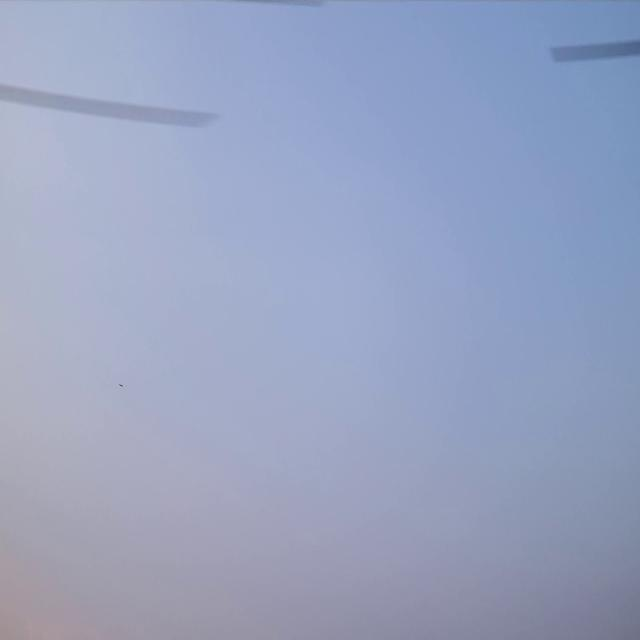UAV: (119, 383, 123, 388)
